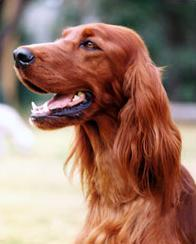Irish_setter: (11, 23, 195, 243)
